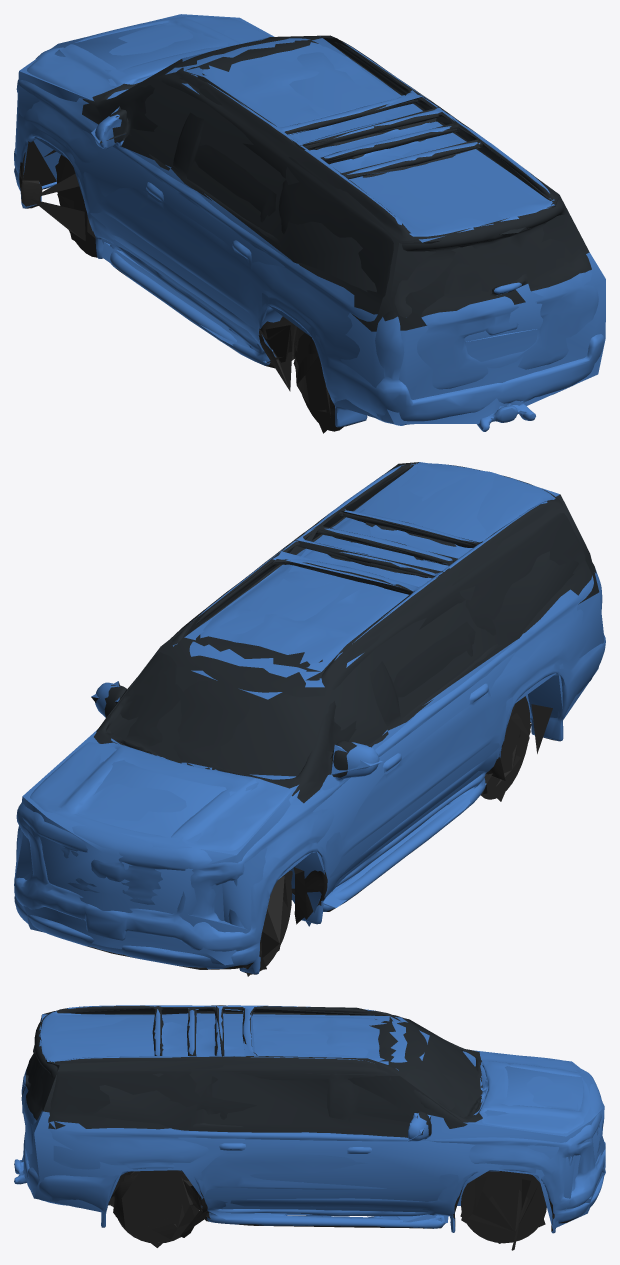
Rendered from cadillac-escalade.glb.
3 views of the same model, one above another, from view 1: azimuth 30°, elevation 25°; view 2: azimuth 150°, elevation 25°; view 3: azimuth 270°, elevation 25° (orthographic). The views are drawn at different scales.
Parts seen in each view (by area): view 1: body, far; view 2: body, far; view 3: body, far.
Part boxes in pixels (x1,y1,x2,y2): body: (14,16,604,431); far: (15,14,605,433); body: (14,463,605,974); far: (14,462,604,976); body: (14,1005,605,1250); far: (20,1005,605,1249).
Size of the model in its own units: 2.31 by 2 by 5.76.
